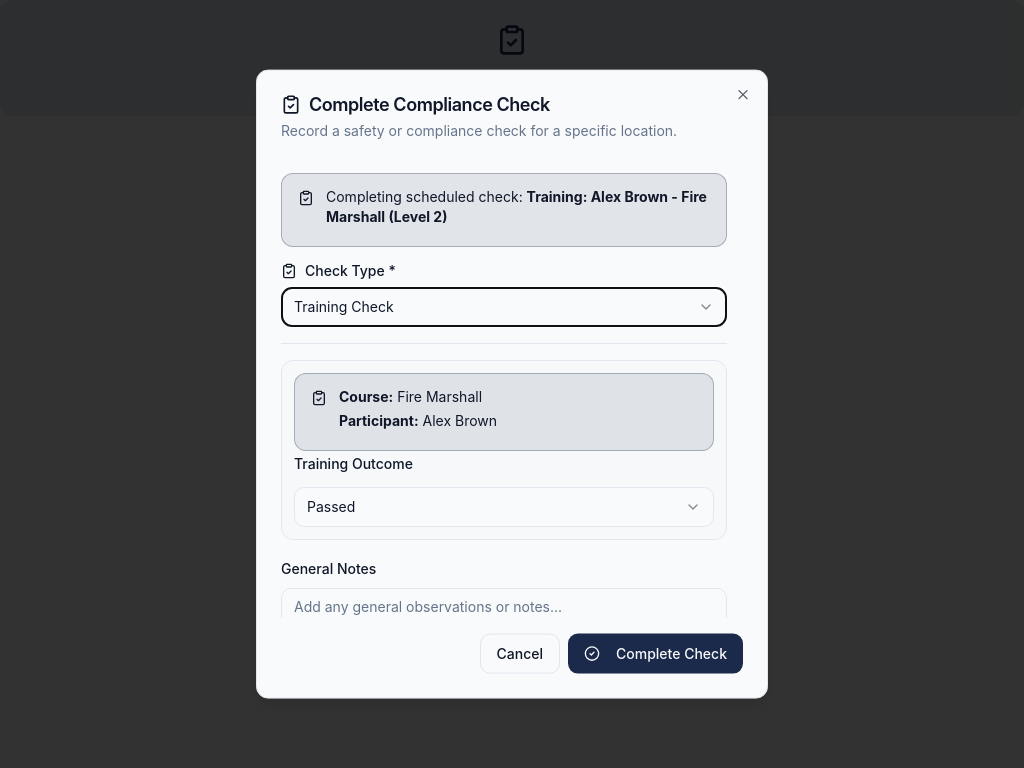
it: ComplianceCheckForm training UX › does not reopen after cancel when request id has not changed
The image size is (1024, 768).
Expected: the heading "Complete Compliance Check" is shown, [281,94,550,115]
Click the button "Cancel" at (520, 653), box [480,633,560,673]
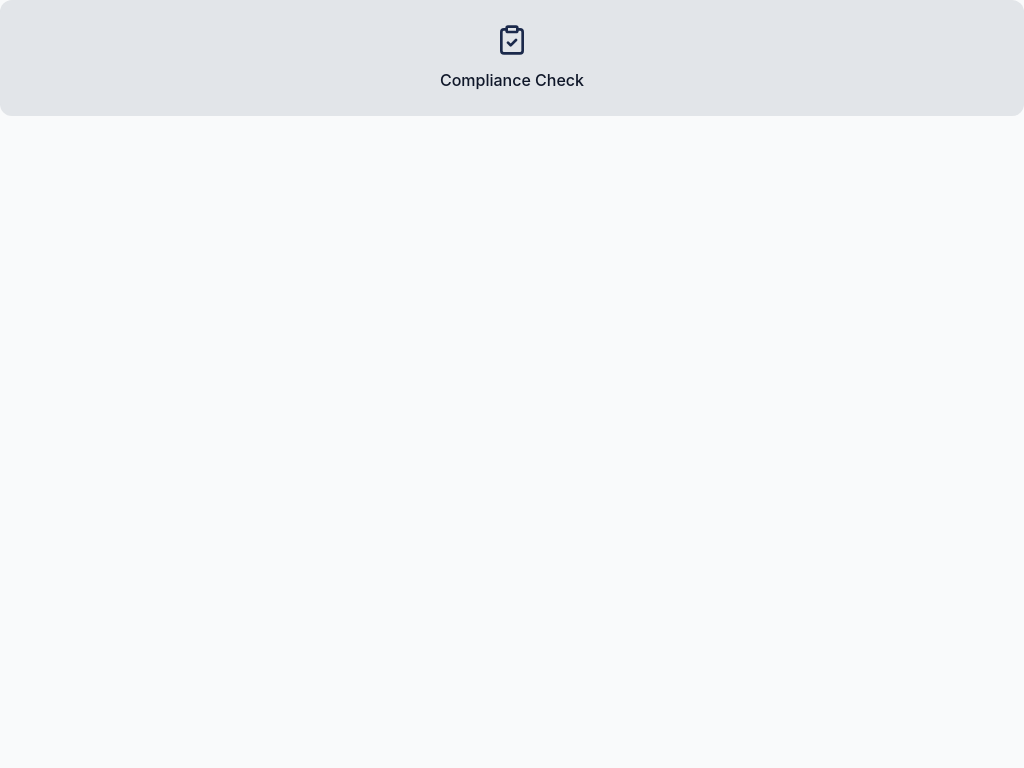
Expected: the heading "Complete Compliance Check" is gone
